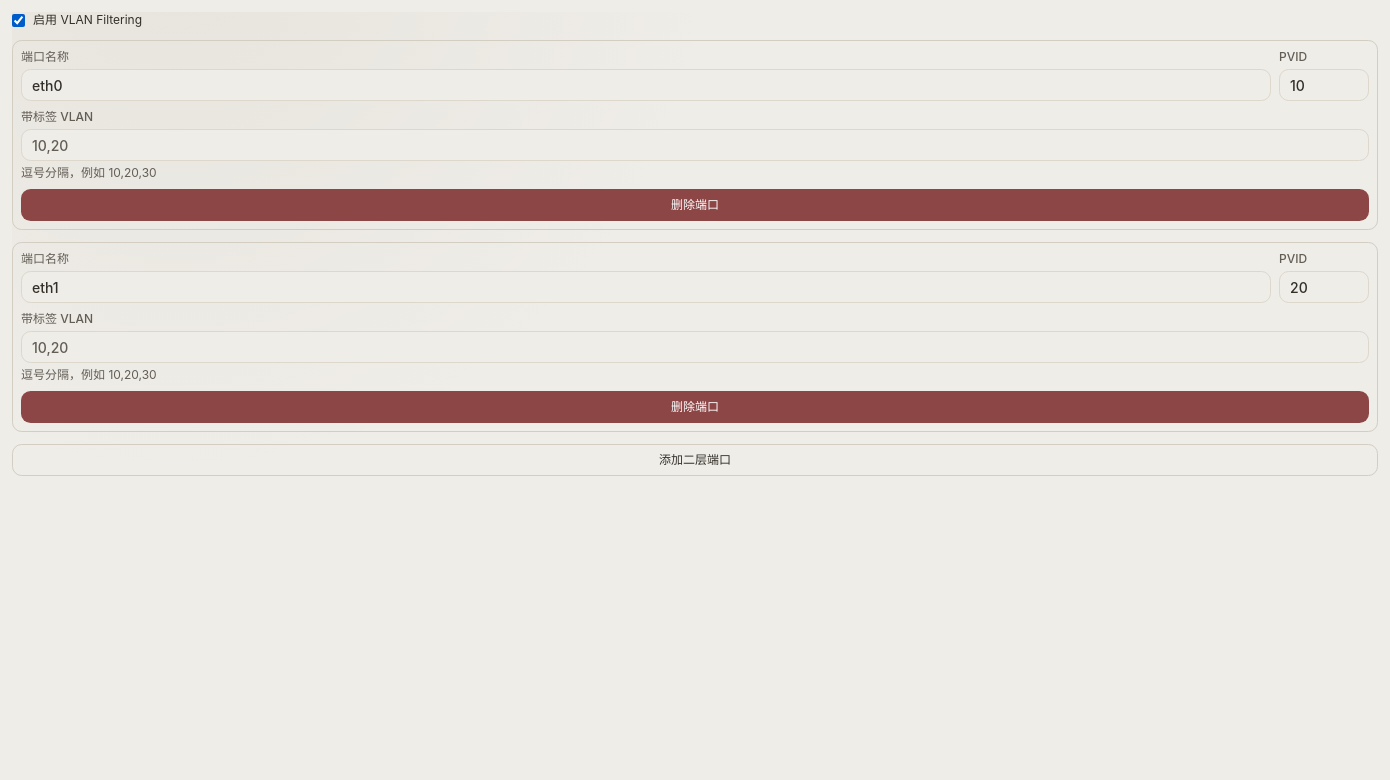
Scenario: network object VLAN editor › reports duplicate and out-of-range VLAN drafts
Replace the text in the 2nd field labelled "端口名称" with "eth0". click: x=646, y=287
box: [21,271,1271,303]
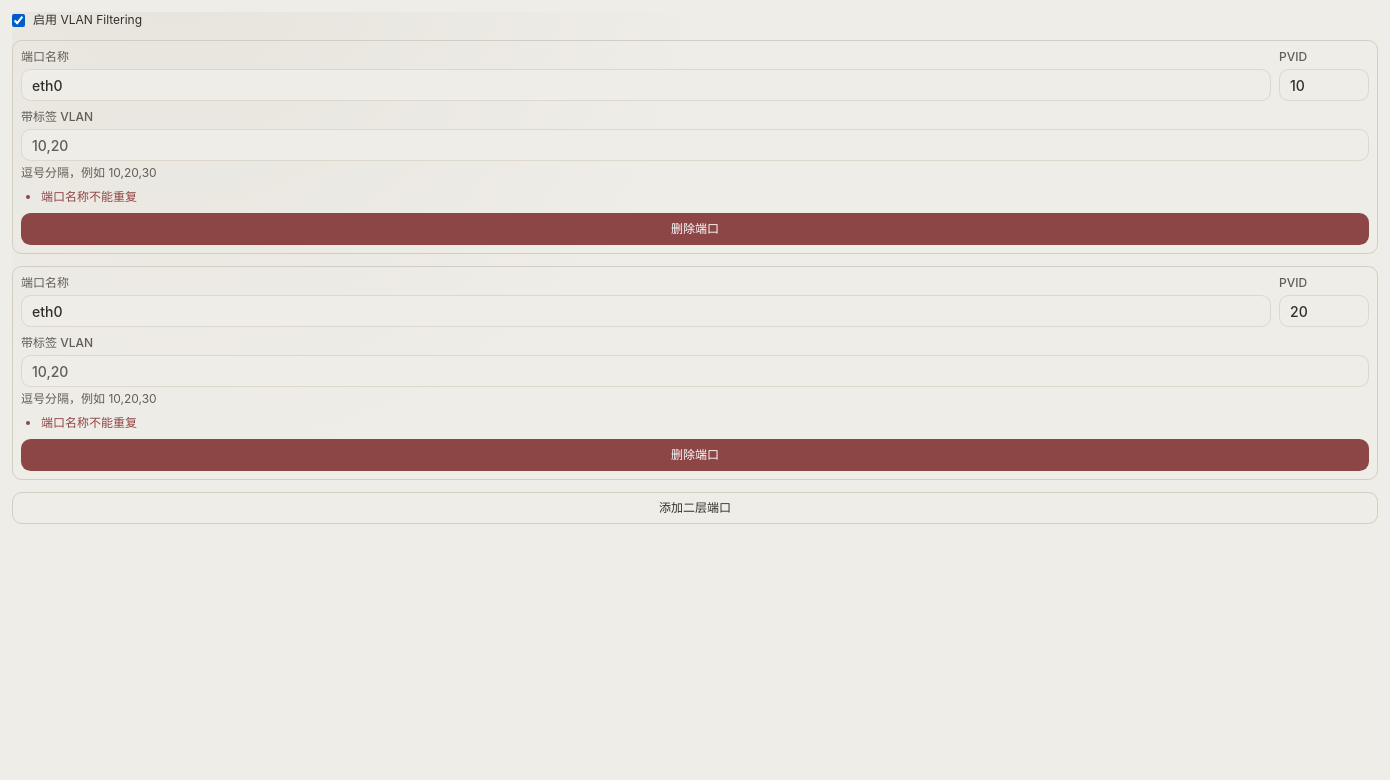
Type "20,4095,20" into the 2nd field labelled "带标签 VLAN 逗号分隔，例如 10,20,30". click: x=695, y=371
box: [21,355,1369,387]
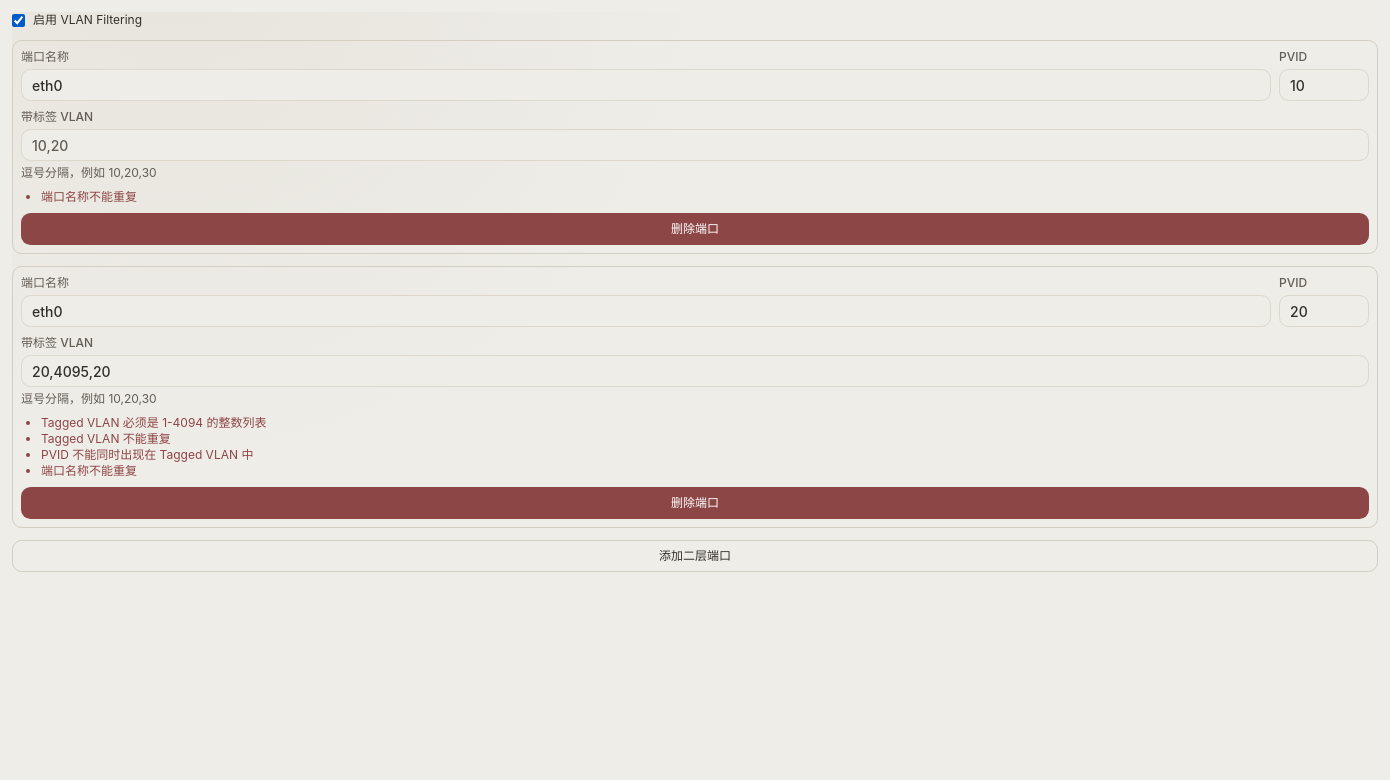
expect the text "端口名称不能重复" is shown: met, box [41,189,137,204]
expect the text "Tagged VLAN 必须是 1-4094 的整数列表" is shown: met, box [41,415,266,430]
expect the text "Tagged VLAN 不能重复" is shown: met, box [41,431,171,446]
